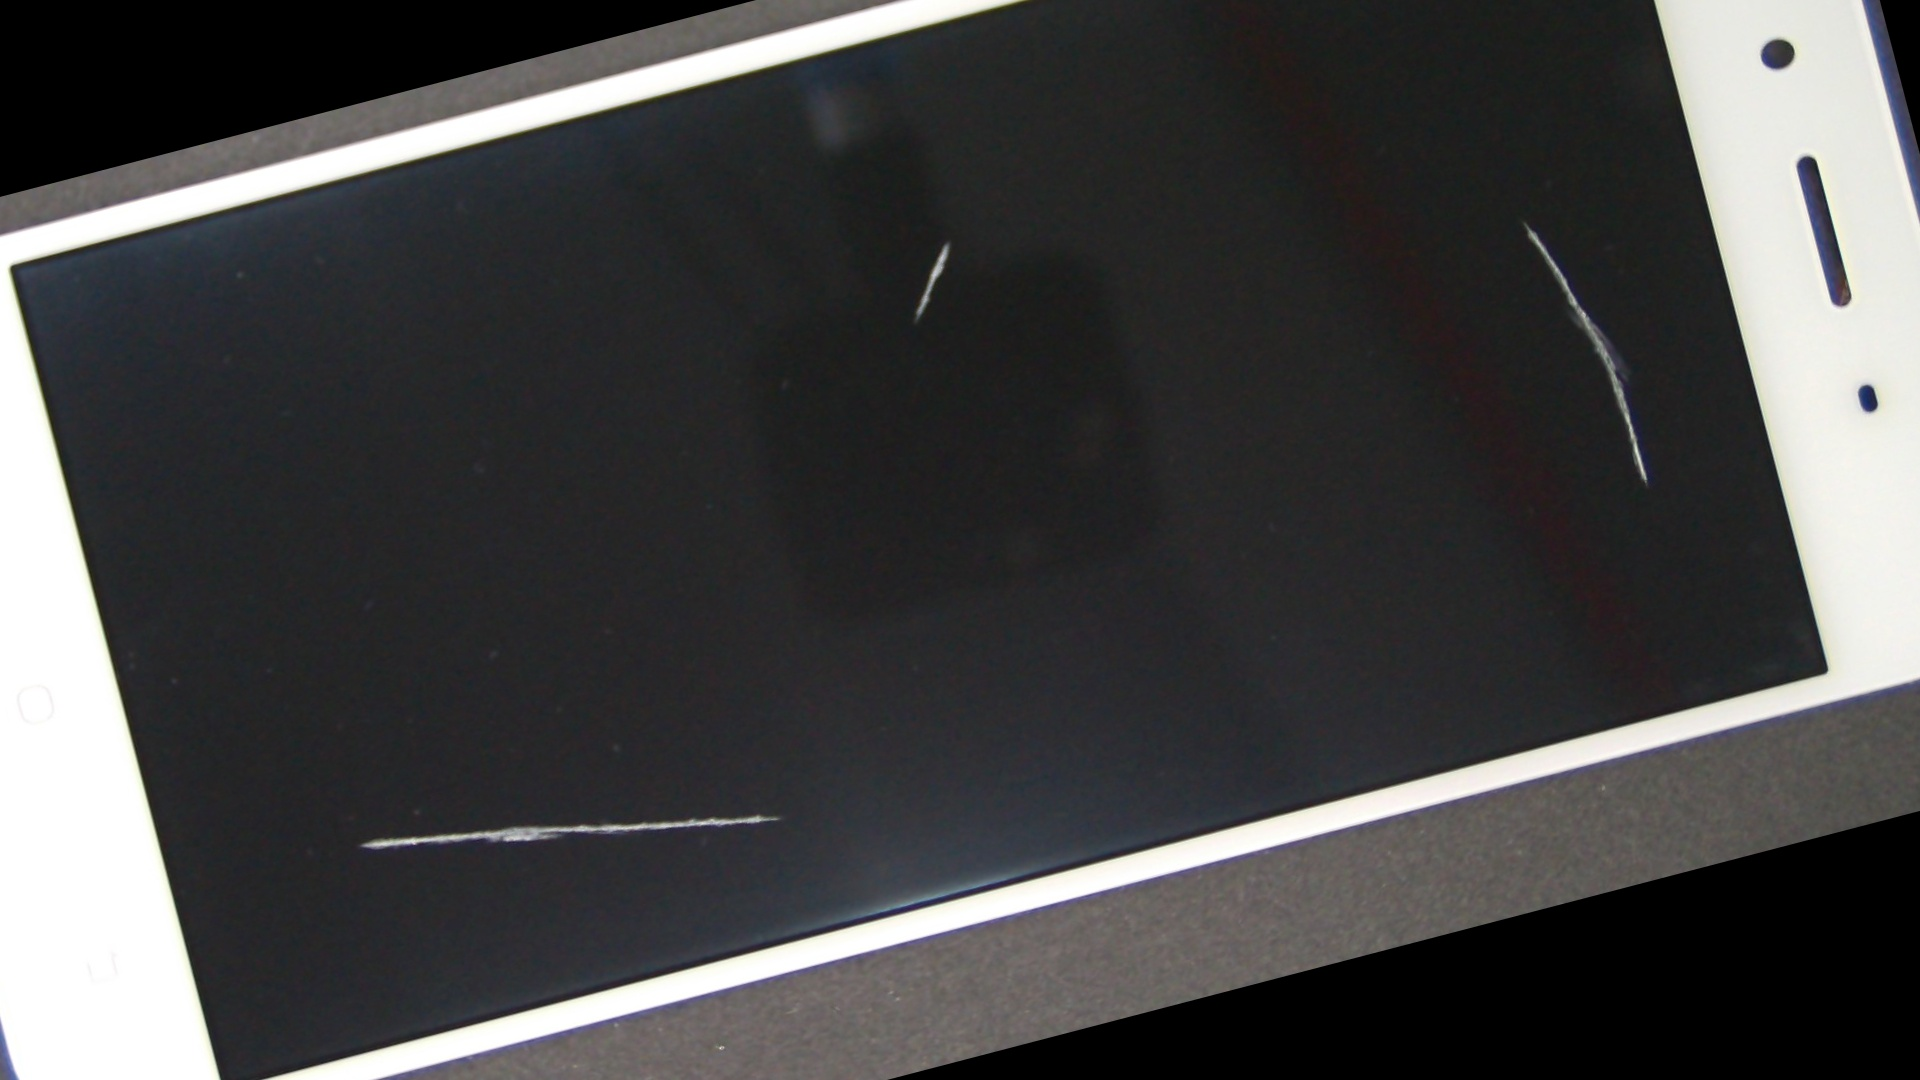oil: (649, 0, 1920, 634), (364, 0, 1534, 520), (76, 438, 671, 1080)
